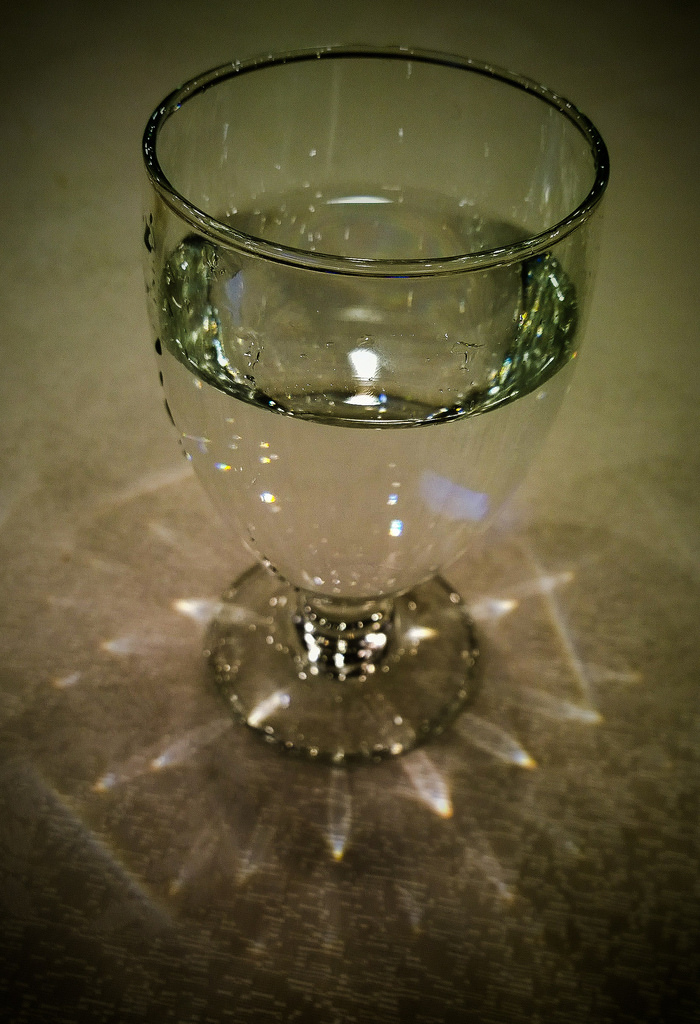glass of water: (129, 38, 618, 778)
